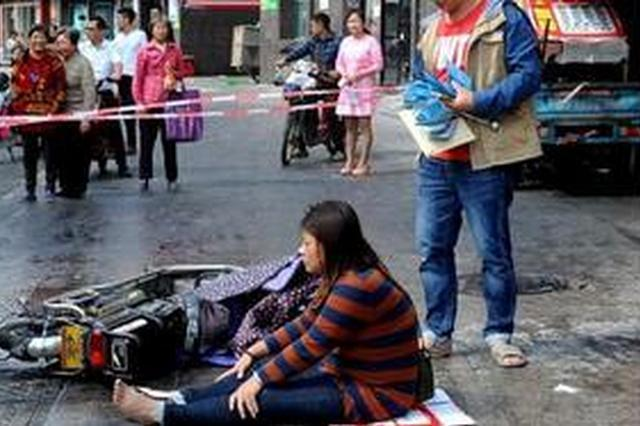Fall-Detected: (93, 174, 425, 426)
